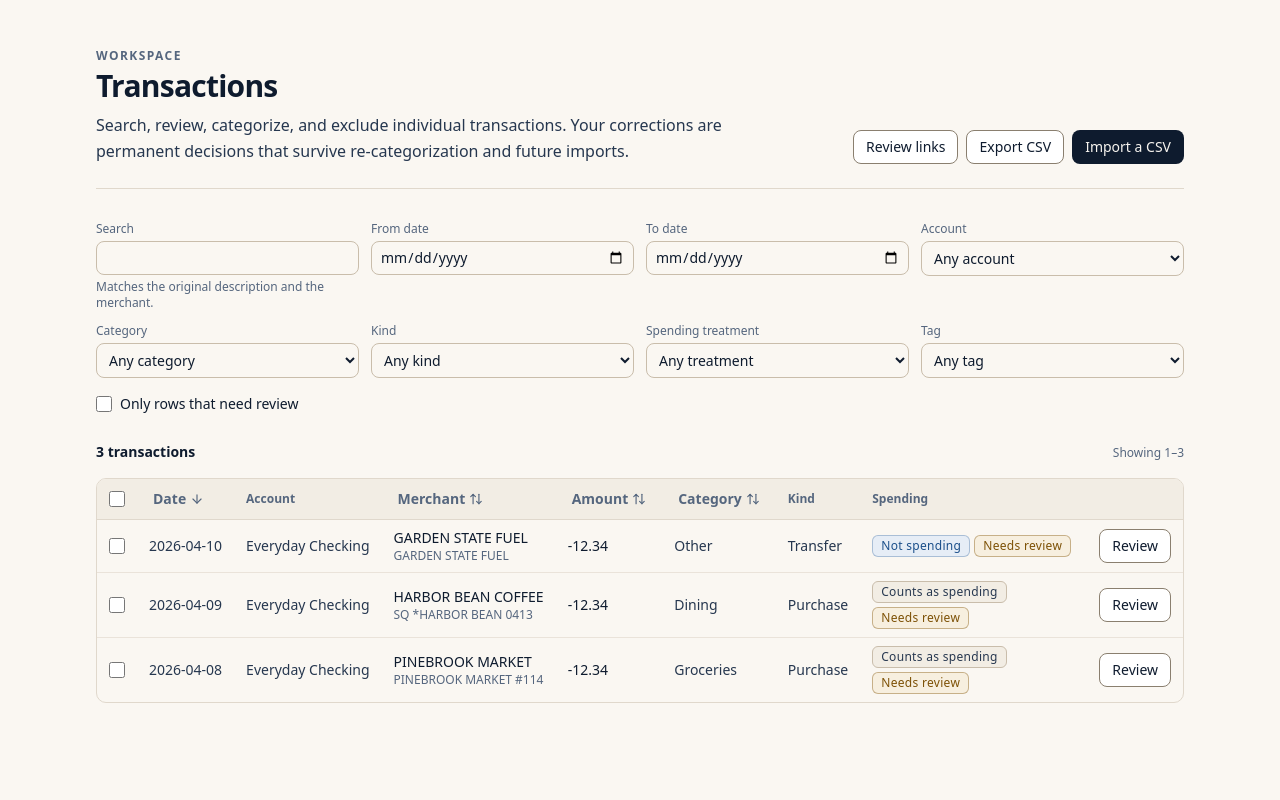
Test: a populated workspace › shows a no-results state rather than an empty table
The image size is (1280, 800).
Expected: the heading "3 transactions" is shown, [96,442,195,462]
Type "ZZZ-NOTHING-MATCHES" into the field labelled "Search" at (228, 258), box [96,241,359,275]
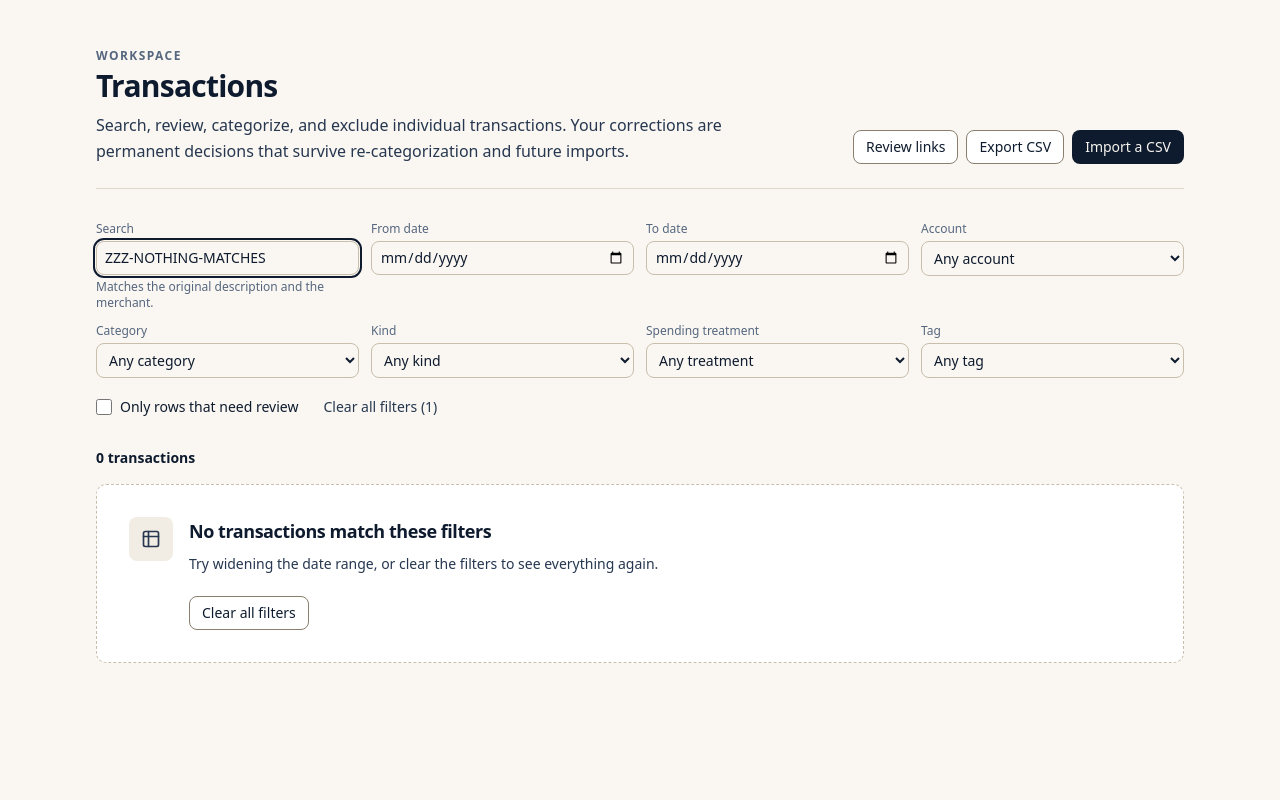
Result: the heading "No transactions match these filters" is shown at [189,519,491,543]
